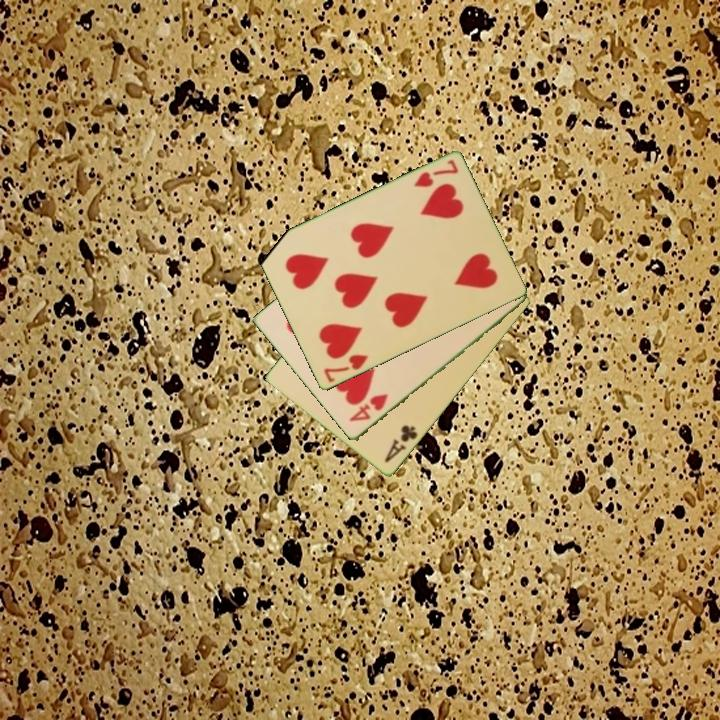4h: (346, 390, 391, 425)
7h: (320, 351, 371, 386), (410, 156, 461, 191)
Ac: (381, 422, 421, 466)
